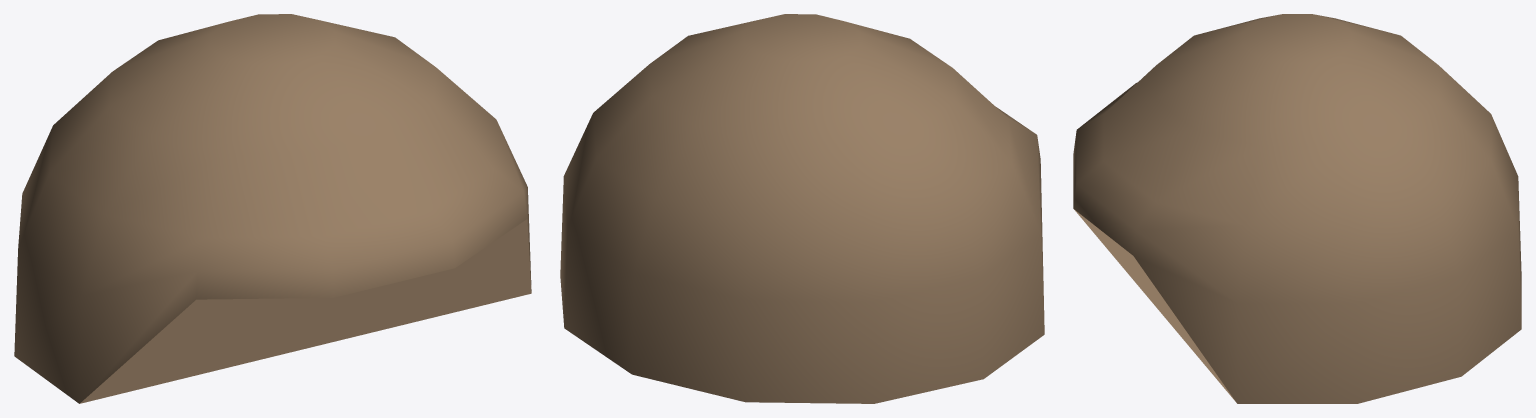
File: CharHairBuzz.fbx
3 views of the same model, side by side, from view 1: azimuth 30°, elevation 25°; view 2: azimuth 150°, elevation 25°; view 3: azimuth 270°, elevation 25° (orthographic). The views are drawn at different scales.
Parts seen in each view (by area): view 1: CharHairBuzz; view 2: CharHairBuzz; view 3: CharHairBuzz.
Boxes of the visible parts, <box> form: CharHairBuzz: <box>14,14,531,403</box>; CharHairBuzz: <box>560,14,1044,403</box>; CharHairBuzz: <box>1073,14,1521,403</box>.
Bounding box in the file's own units: 0.398 × 0.24 × 0.3701.
